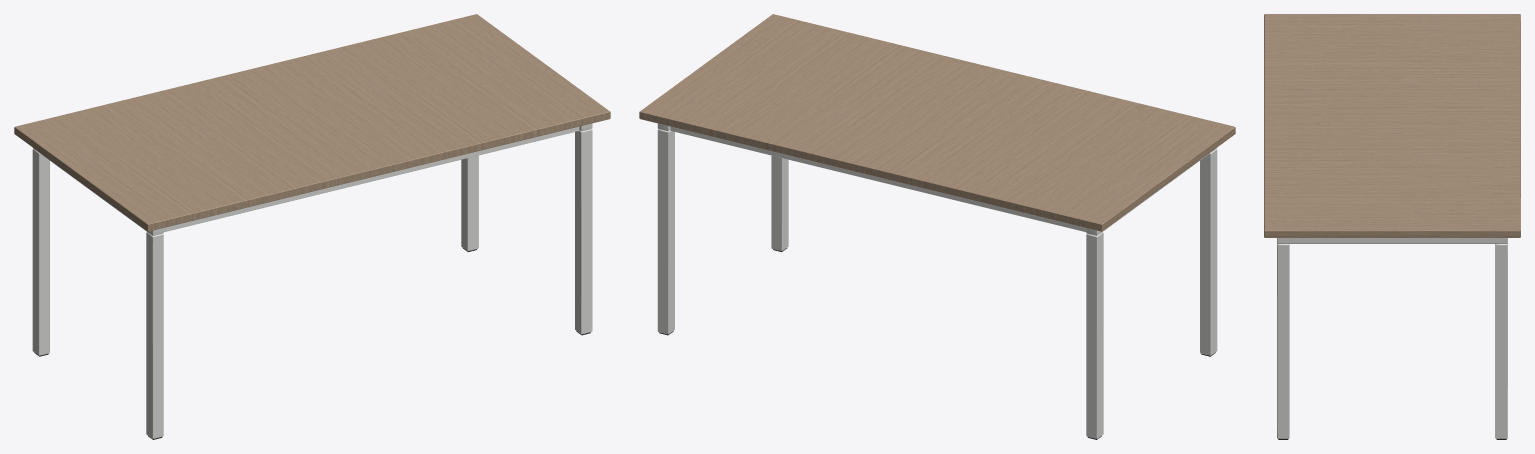
File: desk_160.glb
The picture shows the model from 3 angles, left to right: view 1: azimuth 30°, elevation 25°; view 2: azimuth 150°, elevation 25°; view 3: azimuth 270°, elevation 25°; orthographic projection. The views are drawn at different scales.
Visible parts, largest first — view 1: desk_hard; view 2: desk_hard; view 3: desk_hard.
Part boxes in pixels (x1,y1,x2,y2): desk_hard: (14,14,610,439); desk_hard: (639,14,1235,439); desk_hard: (1264,14,1520,439).
Size of the model in its own units: 1.6 by 0.7399 by 0.8001.
3 materials, 1 textured.
